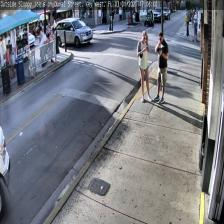person: (136, 30, 152, 101), (154, 31, 168, 103)
